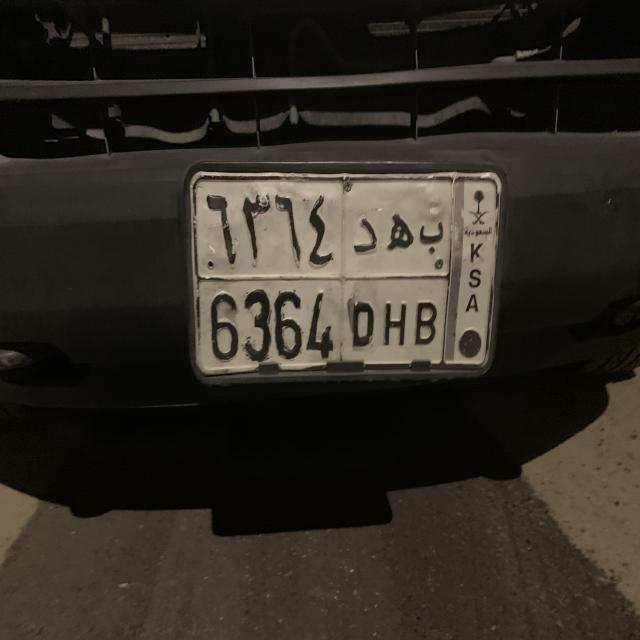license_plate: (182, 157, 505, 382)
